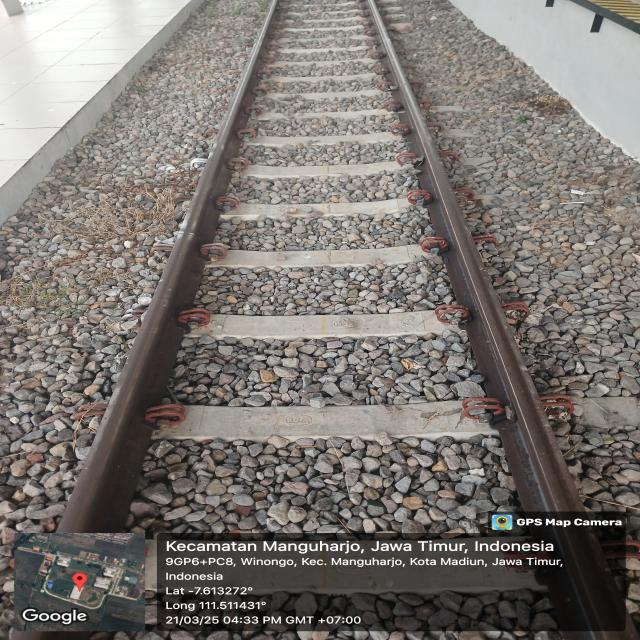rail-detection: (60, 0, 279, 533), (369, 0, 584, 520), (533, 525, 626, 640)
